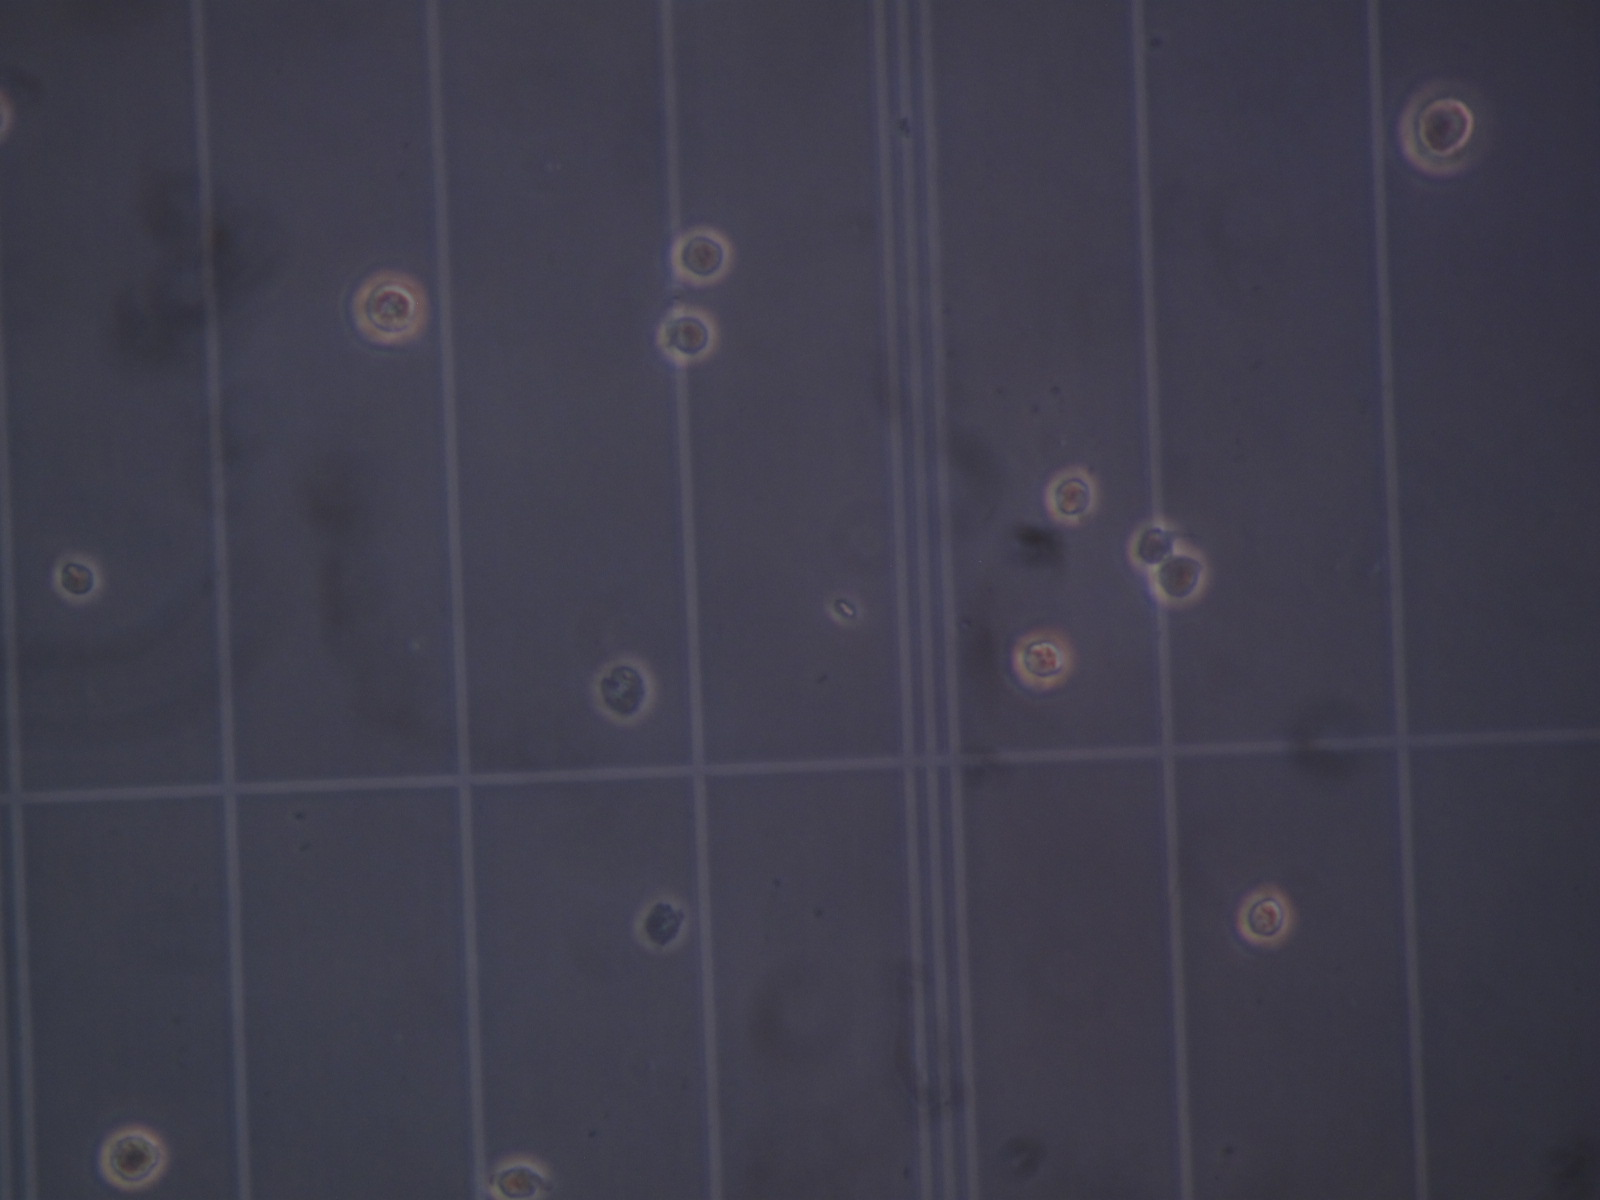hemo: (1397, 84, 1475, 176), (350, 270, 427, 345), (100, 1126, 168, 1191), (591, 655, 654, 725), (1012, 629, 1073, 689), (670, 226, 732, 286), (656, 306, 716, 366), (1237, 887, 1291, 945), (1044, 466, 1097, 526), (1150, 551, 1207, 605), (637, 896, 687, 950), (1128, 519, 1178, 568), (53, 553, 102, 604), (489, 1158, 547, 1200)
